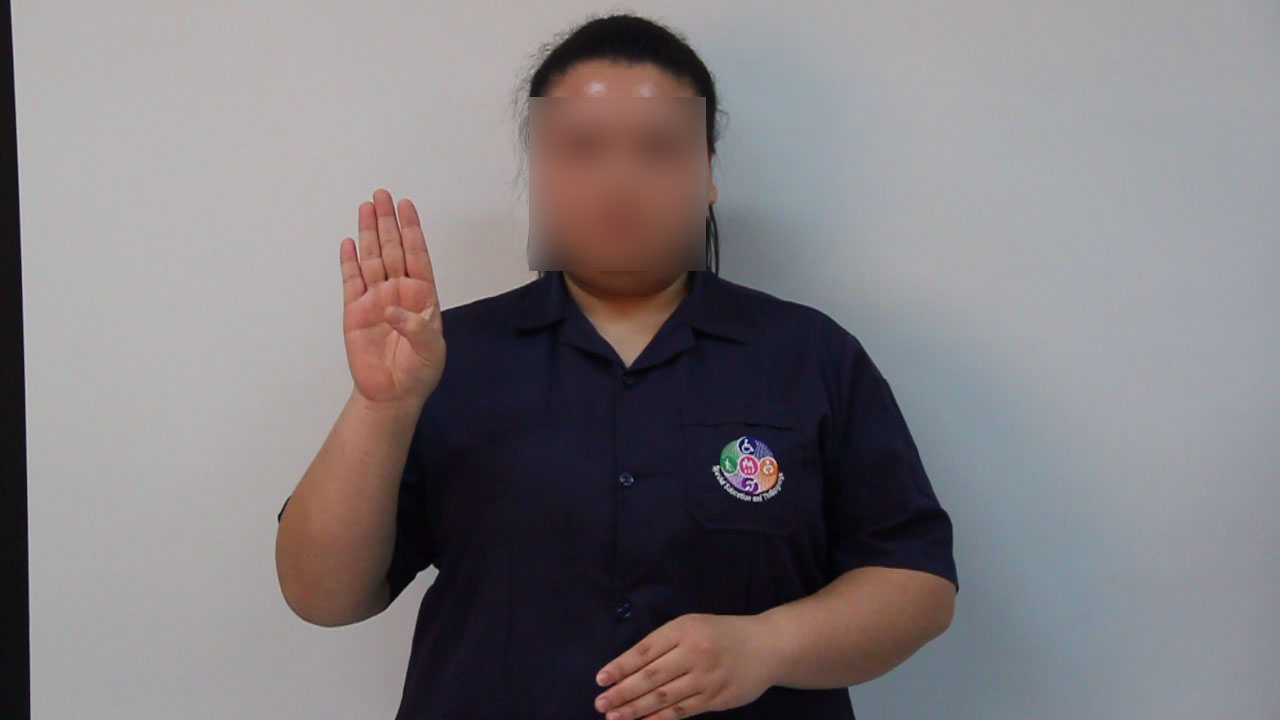bor: (325, 174, 453, 433)
